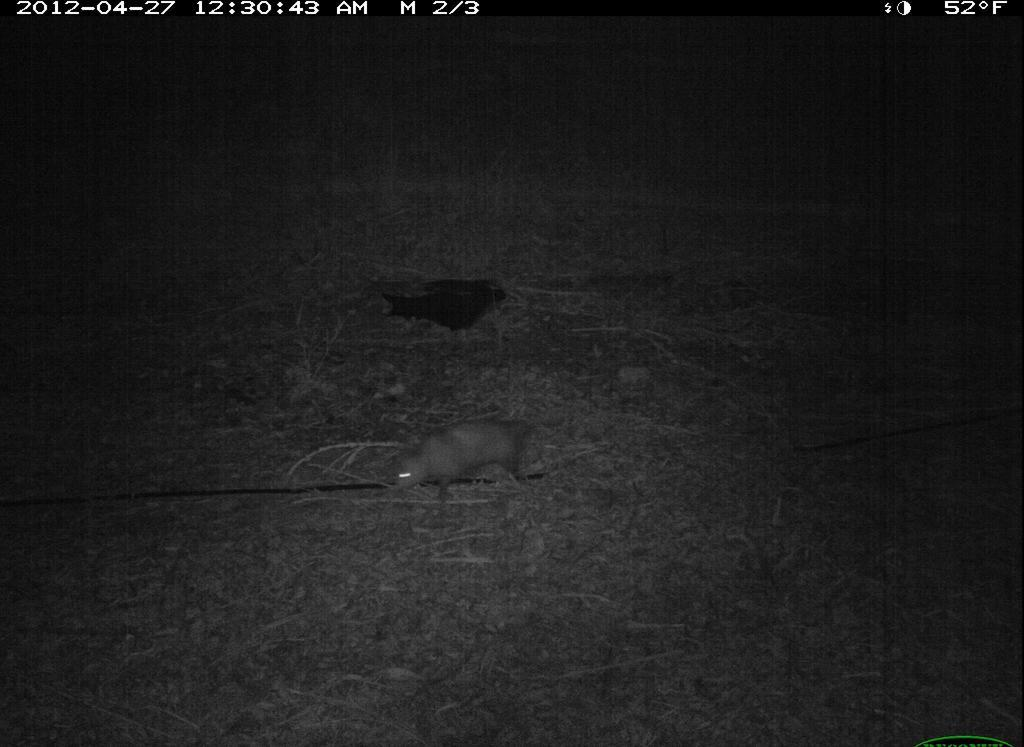opossum: (393, 404, 568, 505)
